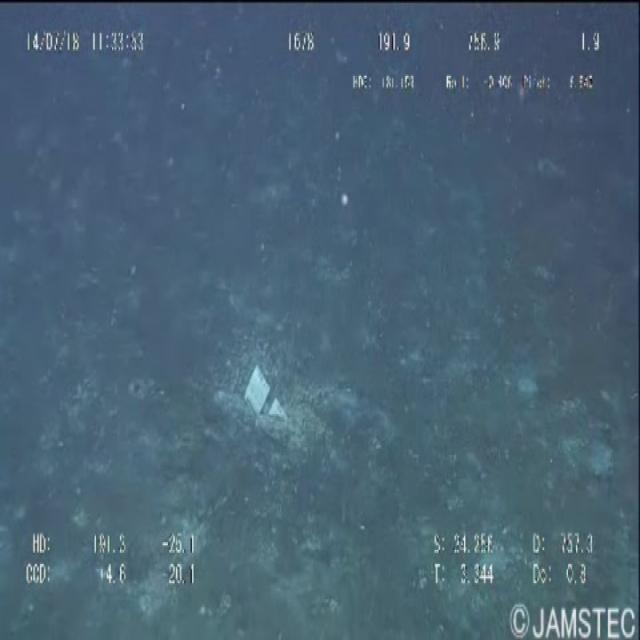Glass: (235, 351, 298, 458)
